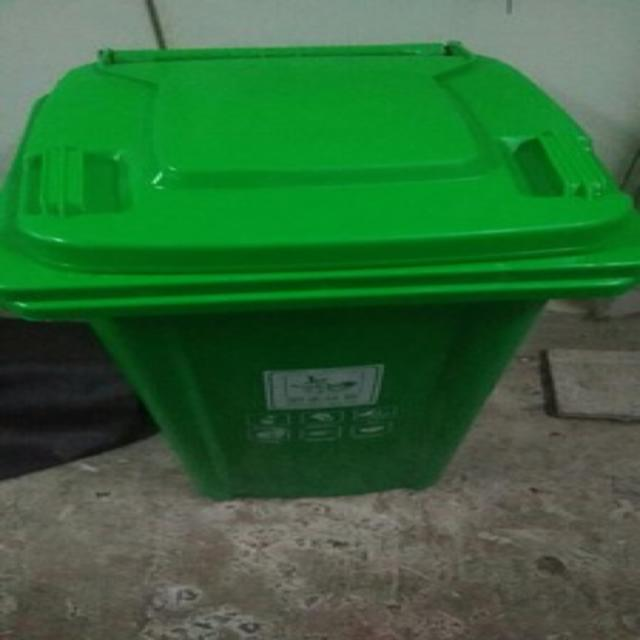ash bin: (9, 41, 637, 502)
